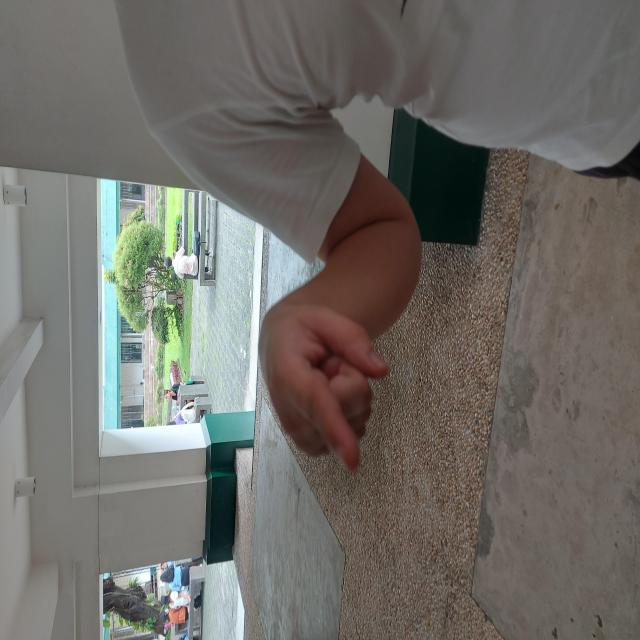Z: (168, 256, 340, 390)
